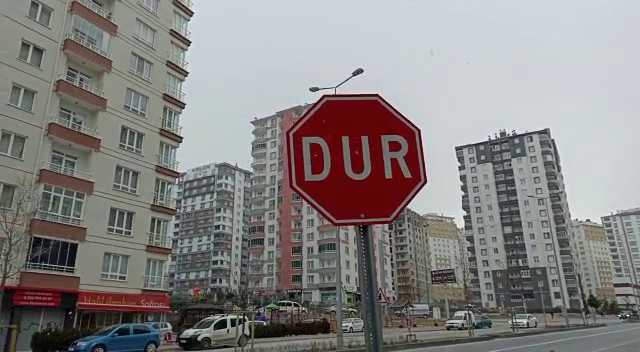stop: (282, 90, 432, 228)
